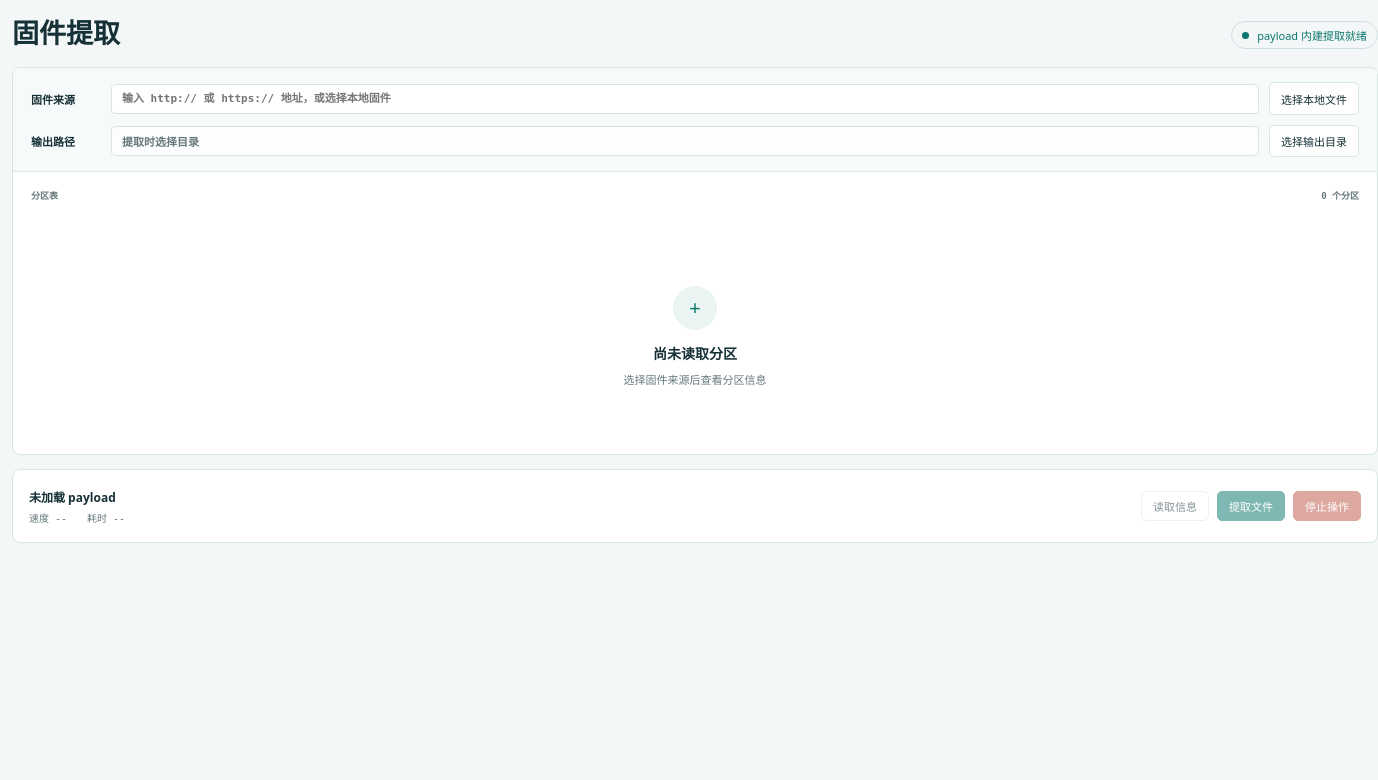
Test: FirmwareExtractPage › 输出目录由 Rust 原生选择命令签发 capability 且页面不显示路径
Click the button with class "nw-test-firmware-output-directory" at (1314, 141), box [1269,125,1359,157]
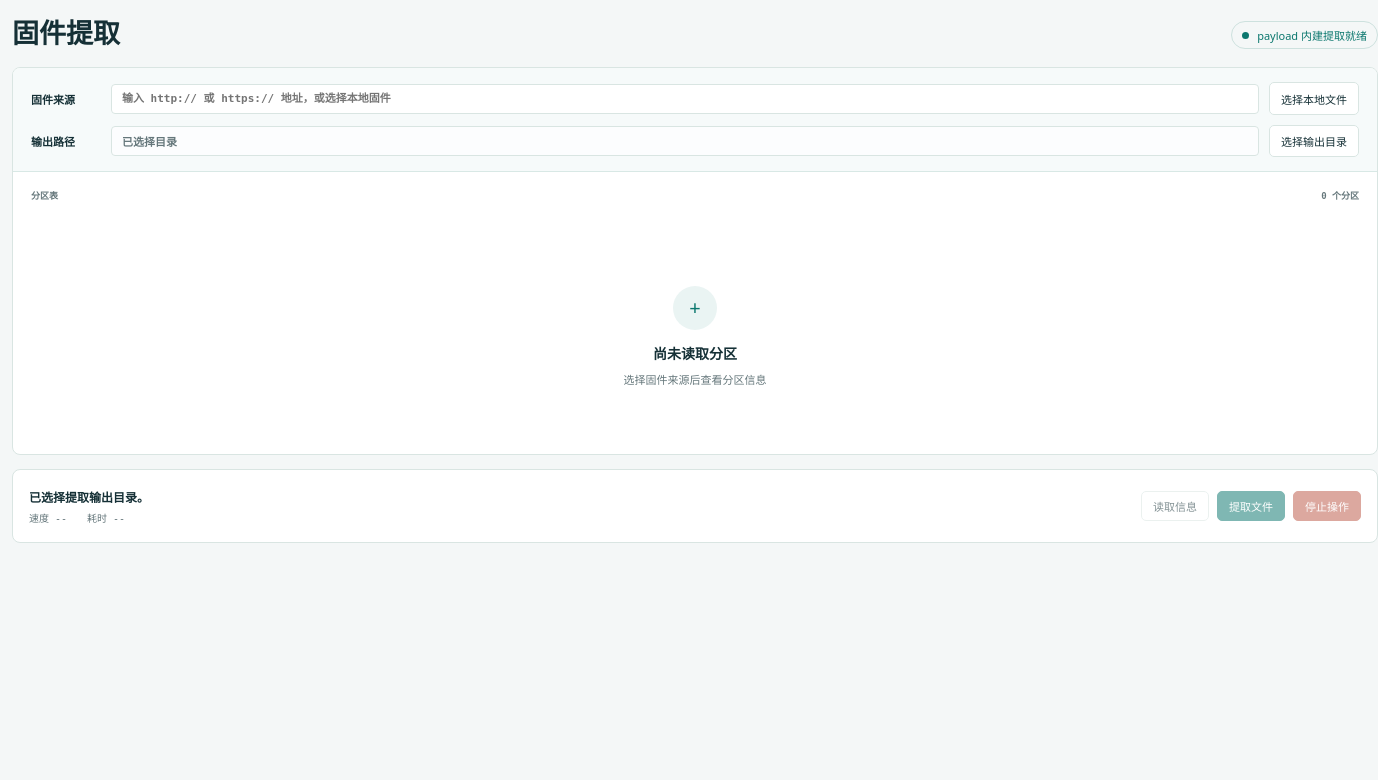
expect the field named "提取输出目录" holds "已选择目录": met, box [111,126,1259,156]
